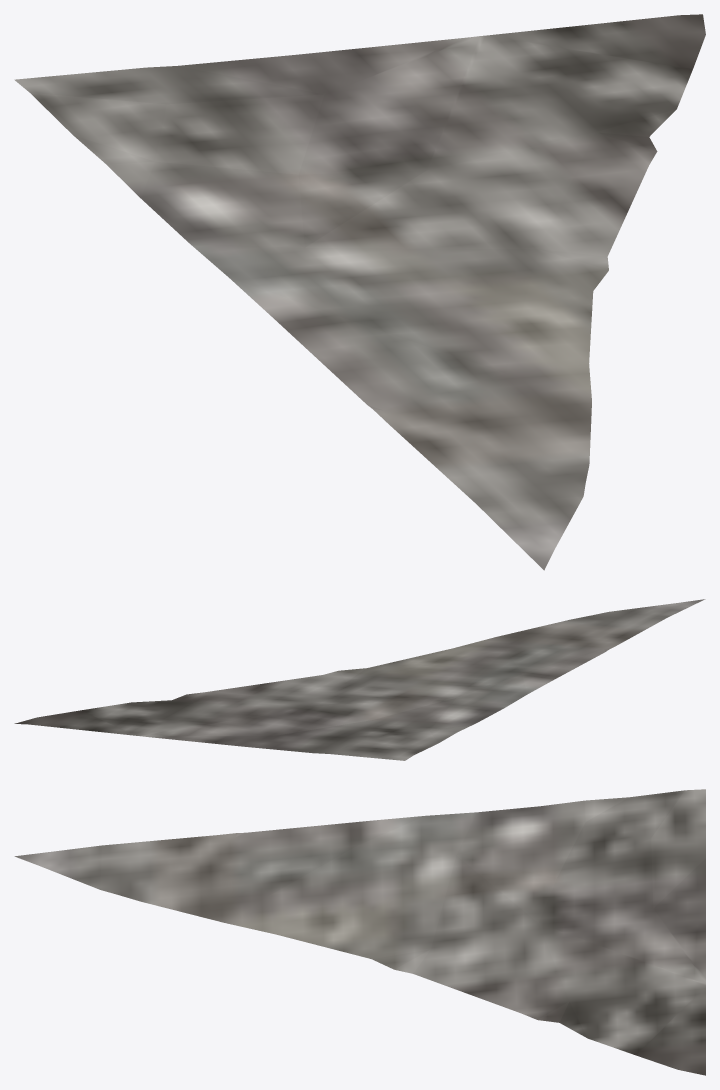
3 renders of one model, top to bottom at view 1: azimuth 30°, elevation 25°; view 2: azimuth 150°, elevation 25°; view 3: azimuth 270°, elevation 25°, orthographic. The views are drawn at different scales.
Size of the model in its own units: 0.1654 by 0.0236 by 0.2205.
1 material, 1 textured.
